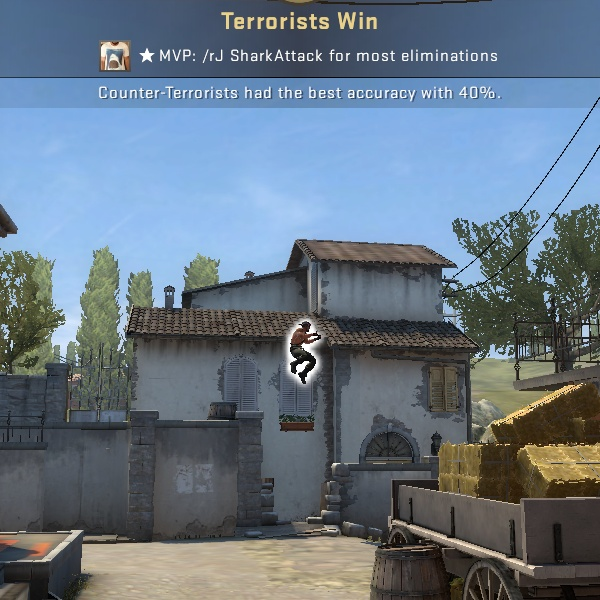t_body: (283, 317, 324, 374)
